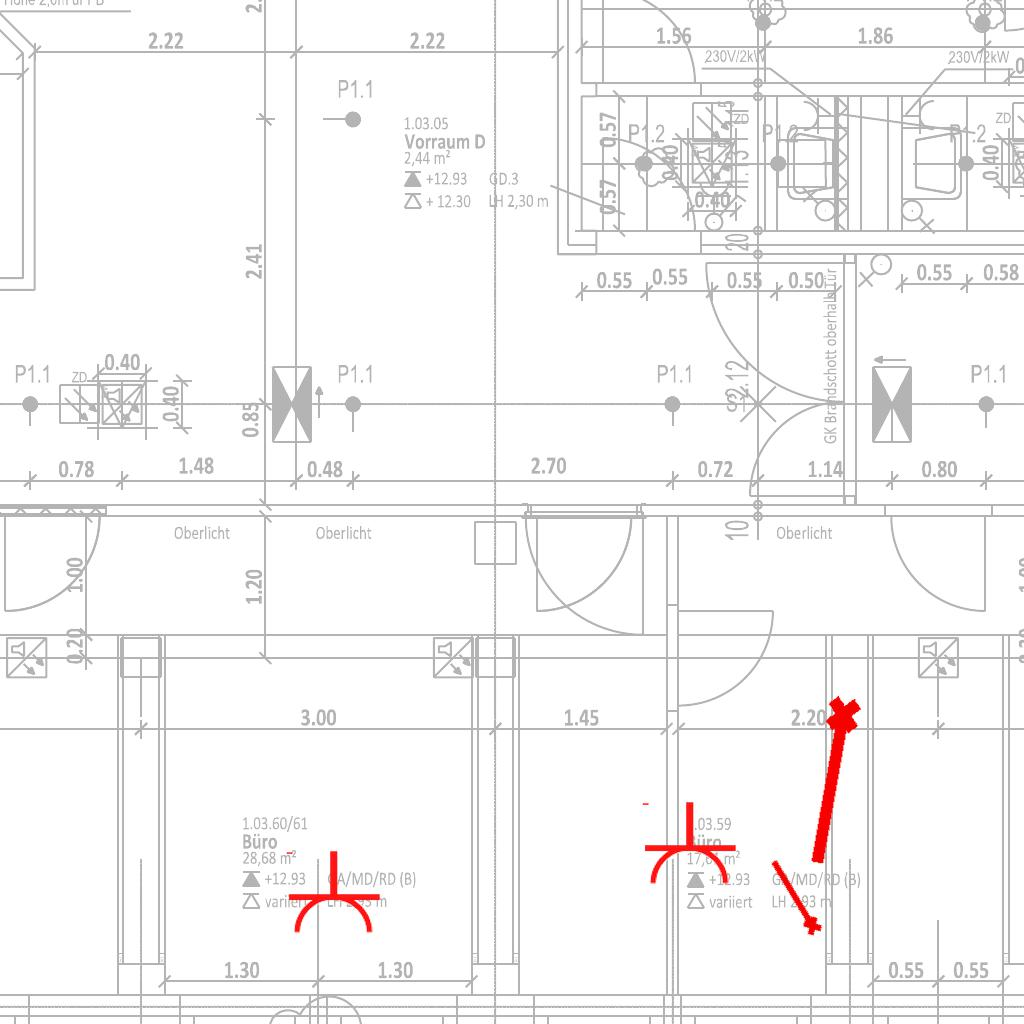ASR_Ansaugoeffnung: (796, 691, 872, 873), (761, 853, 827, 942)
Schukosteckdose_einfach: (282, 849, 382, 936), (638, 800, 738, 887)
